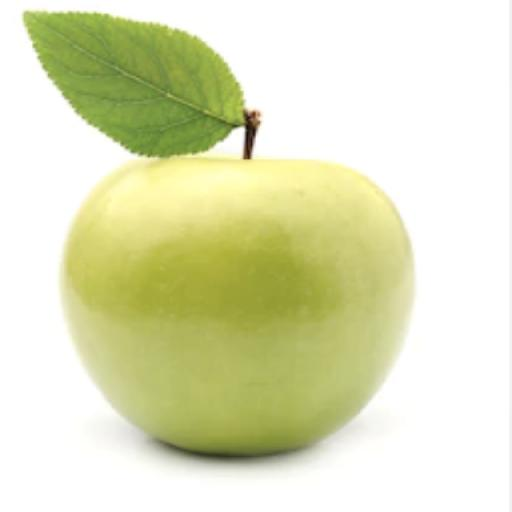apple: (62, 158, 413, 454)
